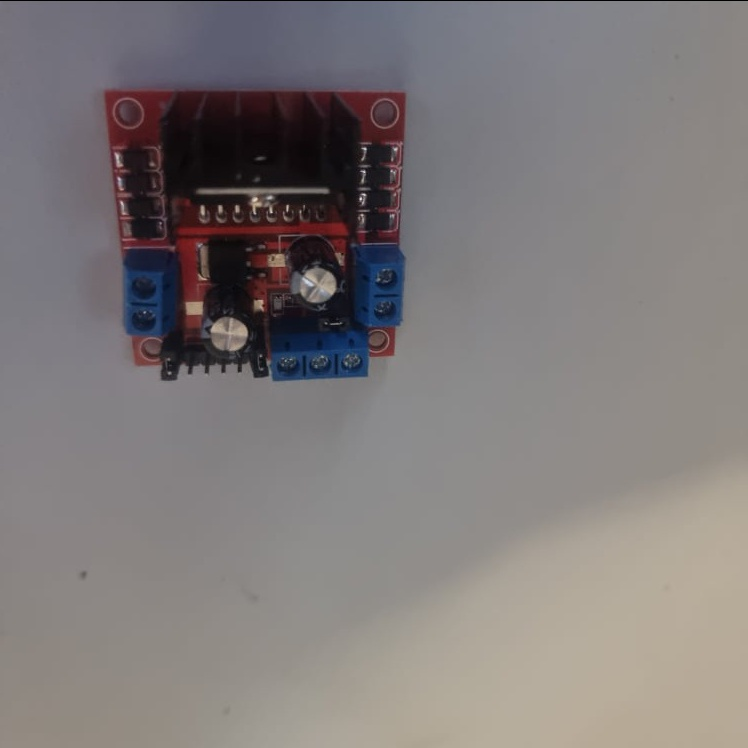MOTOR: (103, 85, 403, 387)
